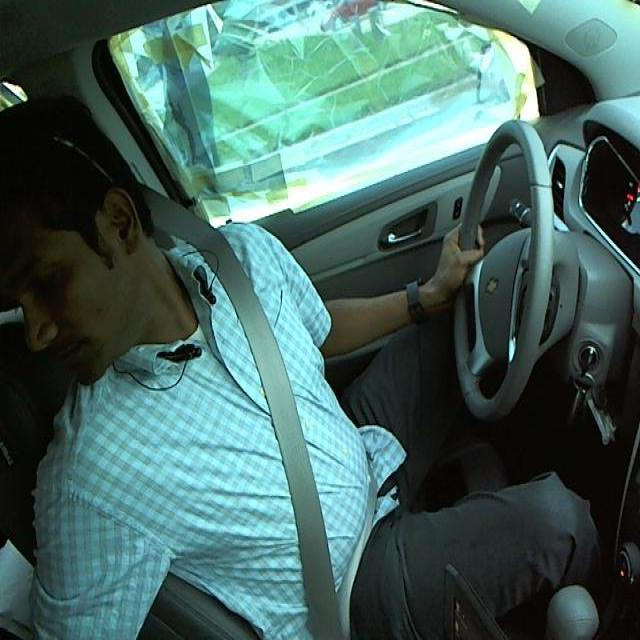seatbelt: (193, 244, 365, 635)
